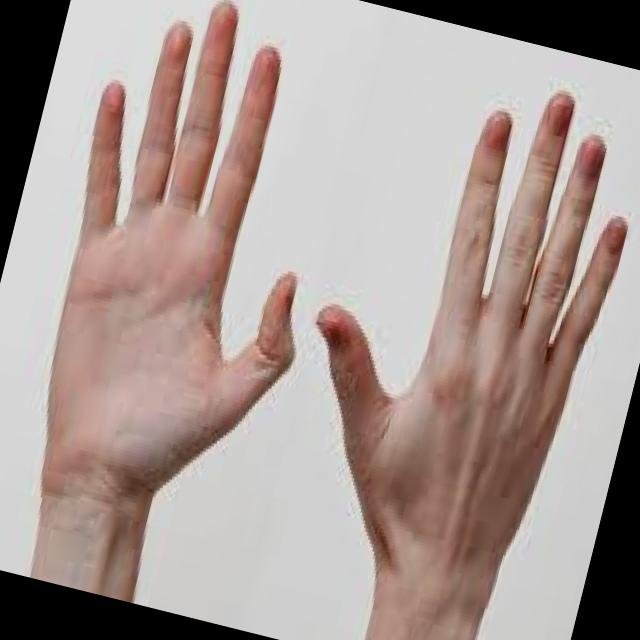Hand: (260, 37, 640, 609), (0, 0, 378, 545)
